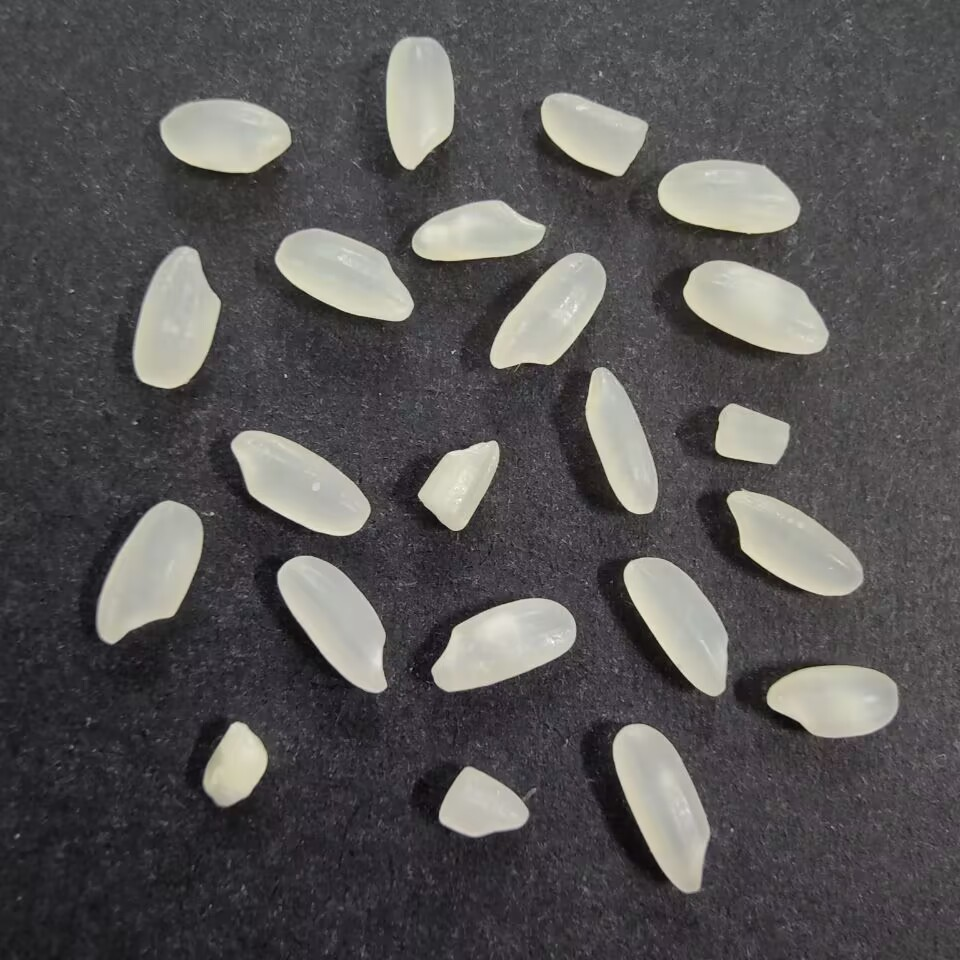broken: (538, 91, 652, 179), (415, 437, 504, 537), (434, 763, 534, 842), (200, 718, 269, 813), (709, 400, 796, 470)
rice: (609, 722, 714, 898), (271, 553, 392, 698), (93, 496, 209, 645), (721, 485, 866, 601), (225, 429, 375, 541), (619, 555, 733, 696), (678, 259, 833, 358), (487, 251, 610, 374), (430, 596, 580, 693), (271, 225, 413, 326), (129, 242, 221, 389), (655, 156, 805, 237), (581, 365, 659, 518), (156, 97, 294, 177), (761, 663, 901, 741), (382, 36, 456, 173), (407, 196, 549, 263)
